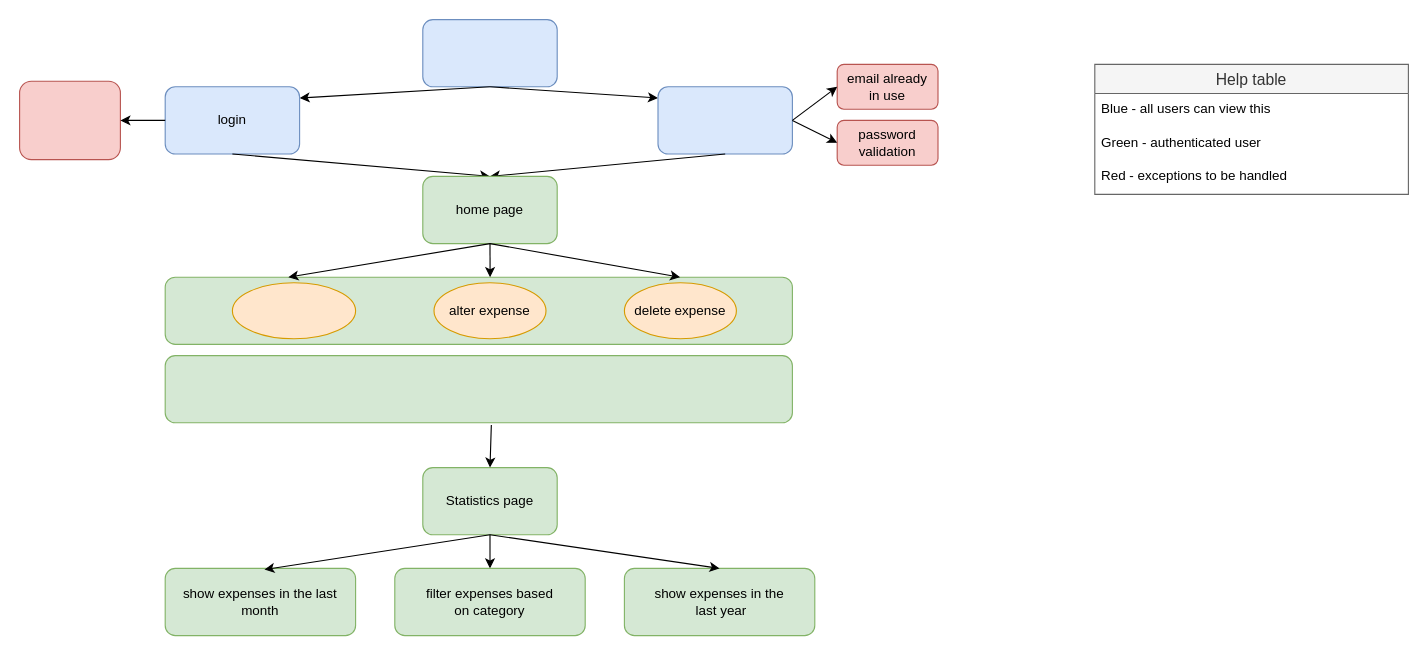
The diagram is 1428 pixels wide and 655 high, and some of its shapes have lost their labels. The centre of each missing label's shape, as x and y in pixels:
"add expense" goes at point (293, 310).
"incorrect email or password exception" goes at point (69, 120).
"register" goes at point (724, 120).
"show latest expenses (last 5)" goes at point (478, 388).
"welcome page" goes at point (489, 52).
